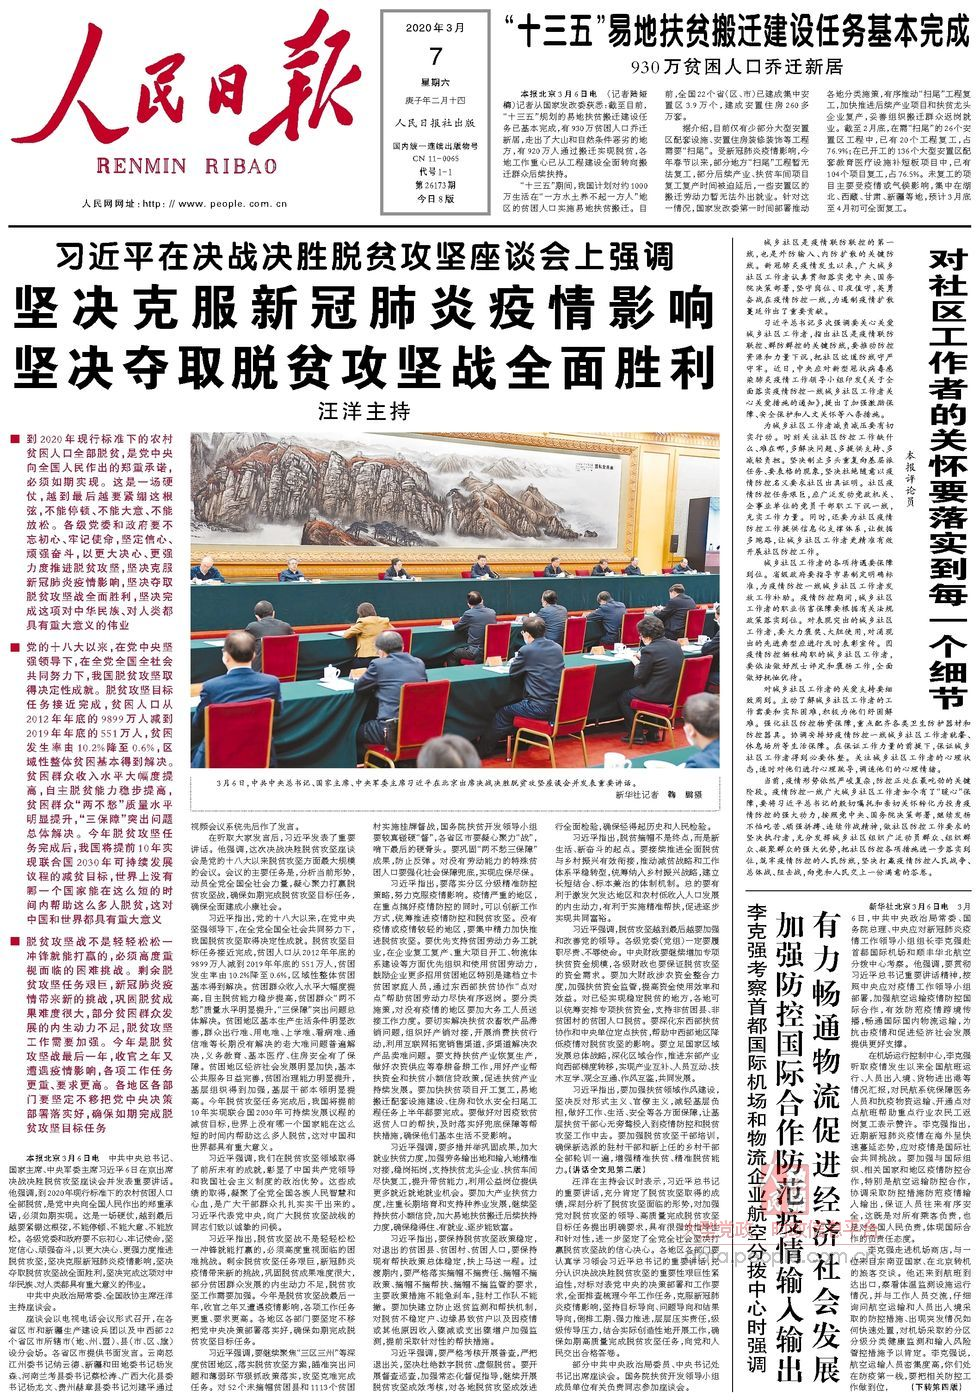pic: (186, 426, 725, 774)
